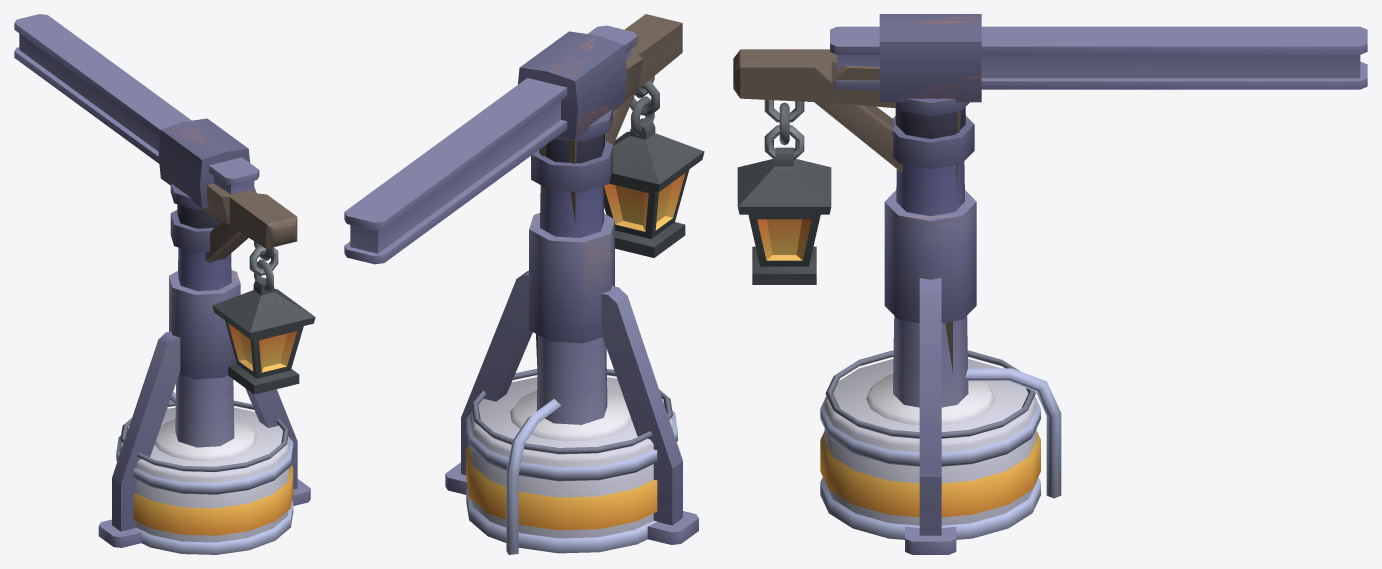
The model's file is map_harbor.glb.
3 renders of one model, left to right at view 1: azimuth 30°, elevation 25°; view 2: azimuth 150°, elevation 25°; view 3: azimuth 270°, elevation 25°, orthographic. The views are drawn at different scales.
Visible parts, largest first — view 1: crane, detail-tank-large, arm, post_lantern_lantern, post; view 2: crane, detail-tank-large, arm, post_lantern_lantern, post; view 3: arm, detail-tank-large, crane, post_lantern_lantern, post.
Part boxes in pixels (box(x1,y1,x2,y2)): crane: box(98, 204, 310, 547); detail-tank-large: box(116, 391, 293, 554); arm: box(14, 14, 259, 210); post_lantern_lantern: box(212, 241, 315, 394); post: box(202, 183, 297, 262); crane: box(445, 134, 698, 544); detail-tank-large: box(466, 369, 677, 554); arm: box(344, 25, 637, 264); post_lantern_lantern: box(603, 76, 704, 257); post: box(536, 14, 682, 369); arm: box(830, 14, 1367, 116); detail-tank-large: box(820, 350, 1061, 539); crane: box(884, 107, 976, 554); post_lantern_lantern: box(737, 100, 831, 284); post: box(733, 49, 960, 372).
Bounding box in the file's own units: 1.93 × 3.55 × 4.34.
Materials: 5 (5 with a texture image).
